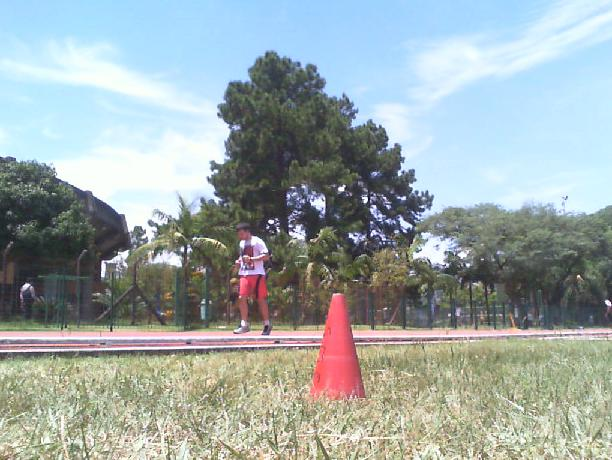0 cone: (297, 293, 366, 401)
